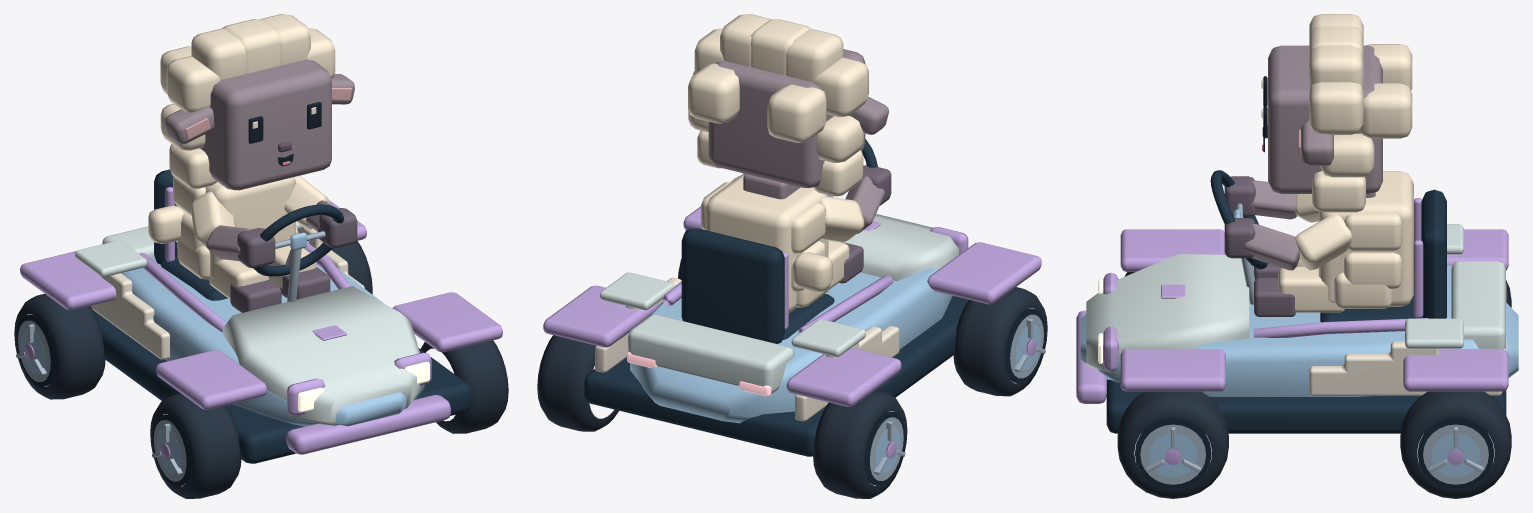
Rendered from kart_domba.glb.
3 views of the same model, side by side, from view 1: azimuth 30°, elevation 25°; view 2: azimuth 150°, elevation 25°; view 3: azimuth 270°, elevation 25° (orthographic). The views are drawn at different scales.
Visible parts, largest first — view 1: chassis, driver_pose, wheel_rl_spin, wheel_fl_spin, wheel_fr_spin, steering, ear_l, tail, wheel_rr_spin, eyes, ear_r; view 2: chassis, driver_pose, wheel_rl_spin, wheel_fl_spin, wheel_rr_spin, tail, ear_l; view 3: chassis, driver_pose, wheel_fr_spin, wheel_rr_spin, ear_r, steering.
Part boxes in pixels (bbox=[...]): chassis: bbox=[20, 169, 502, 463]; driver_pose: bbox=[160, 14, 357, 312]; wheel_rl_spin: bbox=[14, 293, 105, 399]; wheel_fl_spin: bbox=[150, 393, 241, 498]; wheel_fr_spin: bbox=[420, 340, 508, 433]; steering: bbox=[253, 204, 344, 276]; ear_l: bbox=[165, 107, 214, 144]; tail: bbox=[148, 205, 184, 243]; wheel_rr_spin: bbox=[331, 241, 372, 294]; eyes: bbox=[248, 102, 321, 143]; ear_r: bbox=[331, 74, 354, 104]; chassis: bbox=[543, 195, 1041, 456]; driver_pose: bbox=[688, 14, 891, 312]; wheel_rl_spin: bbox=[813, 389, 907, 498]; wheel_fl_spin: bbox=[953, 287, 1047, 396]; wheel_rr_spin: bbox=[537, 335, 618, 431]; tail: bbox=[792, 252, 832, 291]; ear_l: bbox=[849, 96, 888, 134]; chassis: bbox=[1076, 189, 1518, 433]; driver_pose: bbox=[1224, 14, 1413, 316]; wheel_fr_spin: bbox=[1117, 391, 1228, 498]; wheel_rr_spin: bbox=[1400, 391, 1511, 498]; ear_r: bbox=[1298, 120, 1333, 165]; steering: bbox=[1210, 170, 1267, 269].
Size of what is drawn, in the model's own units: 1.46 by 1.59 by 1.63.
